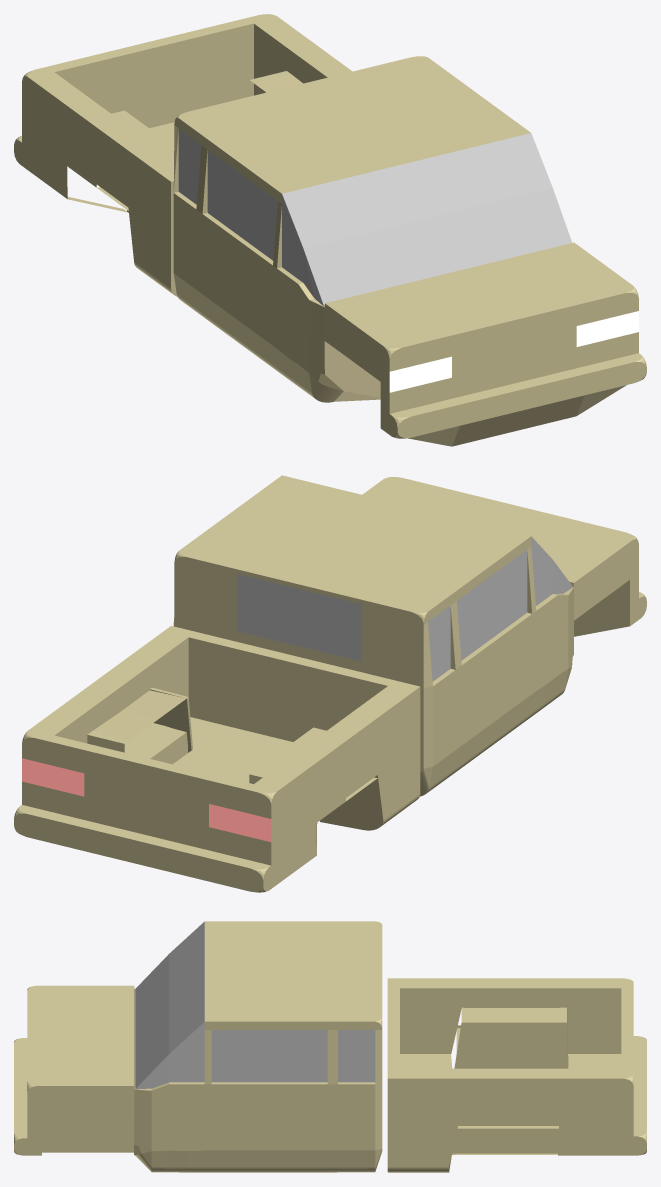
The model's file is pickup_2.gltf.
The picture shows the model from 3 angles, top to bottom: view 1: azimuth 30°, elevation 25°; view 2: azimuth 150°, elevation 25°; view 3: azimuth 270°, elevation 25°; orthographic projection. The views are drawn at different scales.
Parts seen in each view (by area): view 1: truck, windows, headlights; view 2: truck, windows, taillights; view 3: truck, windows.
Boxes of the visible parts, left/top/right/bottom form: truck: left=14, top=14, right=646, bottom=446; windows: left=178, top=128, right=572, bottom=306; headlights: left=389, top=311, right=638, bottom=392; truck: left=14, top=475, right=646, bottom=892; windows: left=237, top=536, right=573, bottom=681; taillights: left=22, top=758, right=271, bottom=841; truck: left=14, top=921, right=646, bottom=1172; windows: left=135, top=922, right=375, bottom=1089.
Bounding box in the file's own units: 3.34 × 2.36 × 8.56.
